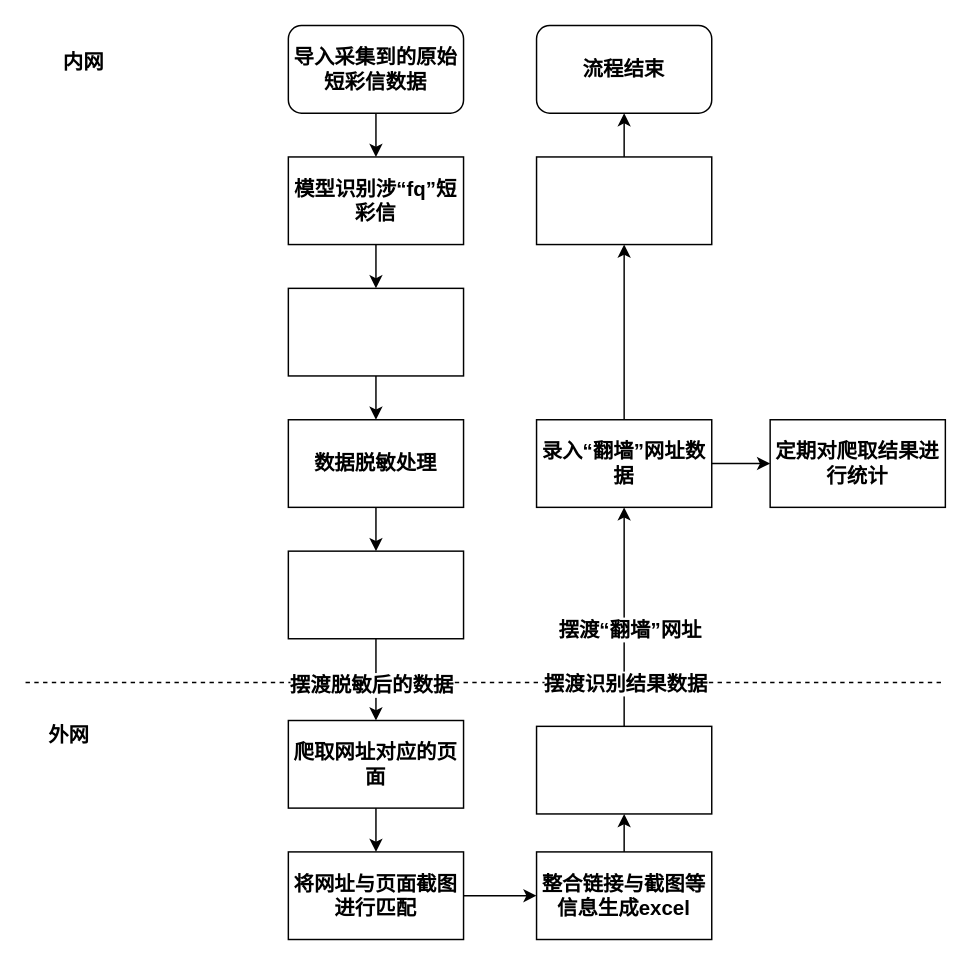
The diagram is 972 pixels wide and 965 high, and some of its shapes have lost their labels. Each missing label, with the centre of its shape:
"判定哪些网址为涉“翻墙”网址" belongs at (x=623, y=769).
"导出识别结果" belongs at (x=375, y=594).
"抽取内容中的链接信息，并统计数量" belongs at (x=375, y=331).
"通过MQ将判定为发送爬取结果" belongs at (x=623, y=200).
